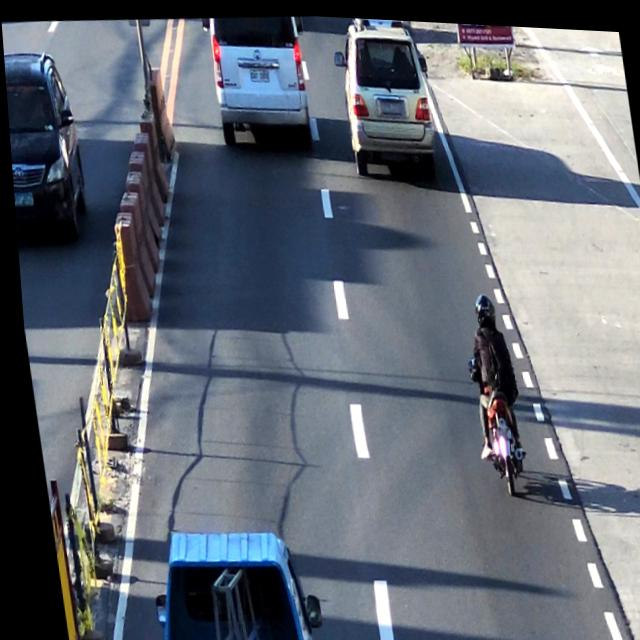Car: (332, 14, 434, 169), (207, 10, 311, 142)
License-Plate: (373, 91, 405, 117), (246, 63, 269, 81)
Motorcycle: (456, 288, 526, 493)
Truck: (142, 526, 311, 640)
